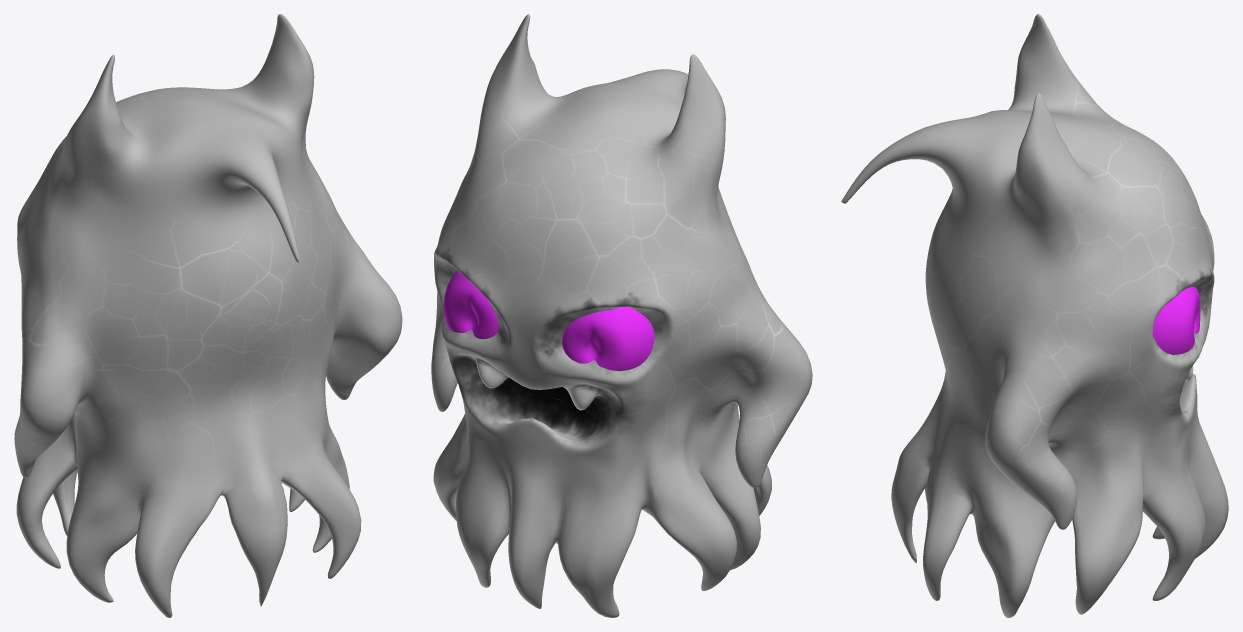
The model's file is ghost_by_dommk.obj.
3 views of the same model, side by side, from view 1: azimuth 30°, elevation 25°; view 2: azimuth 150°, elevation 25°; view 3: azimuth 270°, elevation 25° (orthographic). The views are drawn at different scales.
Parts seen in each view (by area): view 1: Group58971; view 2: Group58971, Group17845; view 3: Group58971, Group17845.
Boxes of the visible parts, x1,y1,x2,y2 form: Group58971: (14, 14, 402, 617); Group58971: (431, 14, 812, 617); Group17845: (443, 270, 654, 371); Group58971: (841, 14, 1228, 617); Group17845: (1153, 287, 1200, 354).
Size of the model in its own units: 554 by 748 by 509.
